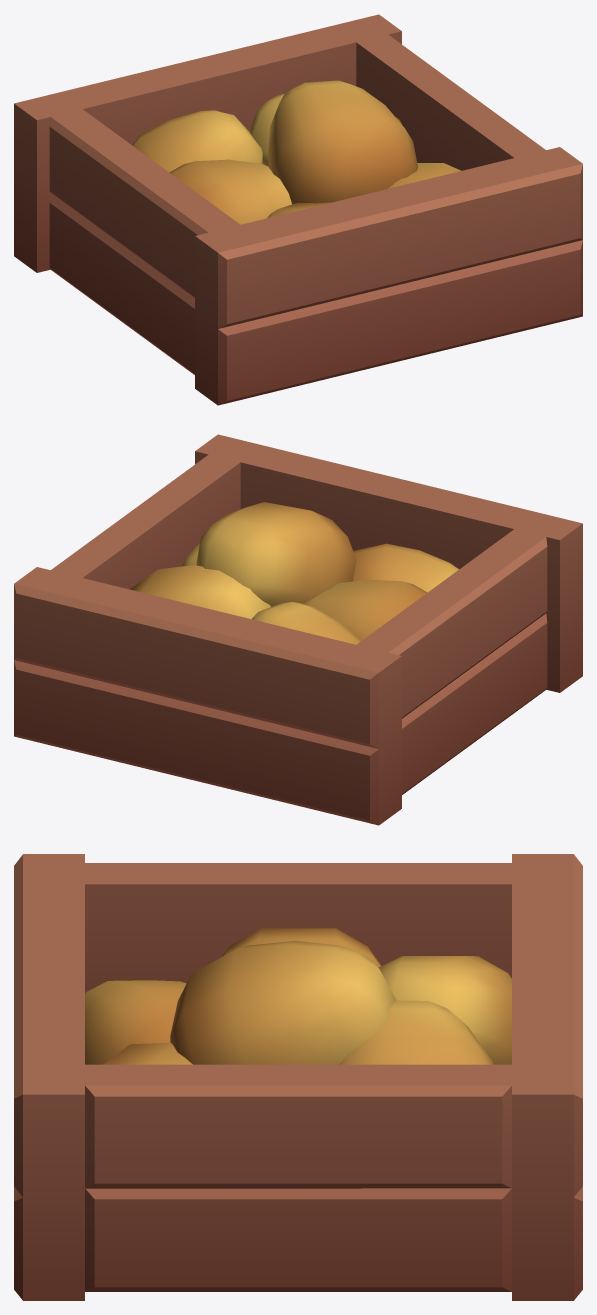
File: re-crate_potatoes.glb
3 views of the same model, one above another, from view 1: azimuth 30°, elevation 25°; view 2: azimuth 150°, elevation 25°; view 3: azimuth 270°, elevation 25° (orthographic). The views are drawn at different scales.
Parts seen in each view (by area): view 1: crate_potatoes; view 2: crate_potatoes; view 3: crate_potatoes.
Boxes of the visible parts, x1,y1,x2,y2 form: crate_potatoes: (14, 14, 582, 405); crate_potatoes: (14, 434, 582, 825); crate_potatoes: (14, 854, 582, 1300).
Bounding box in the file's own units: 2 × 0.9658 × 2.
Materials: 1 (1 with a texture image).
